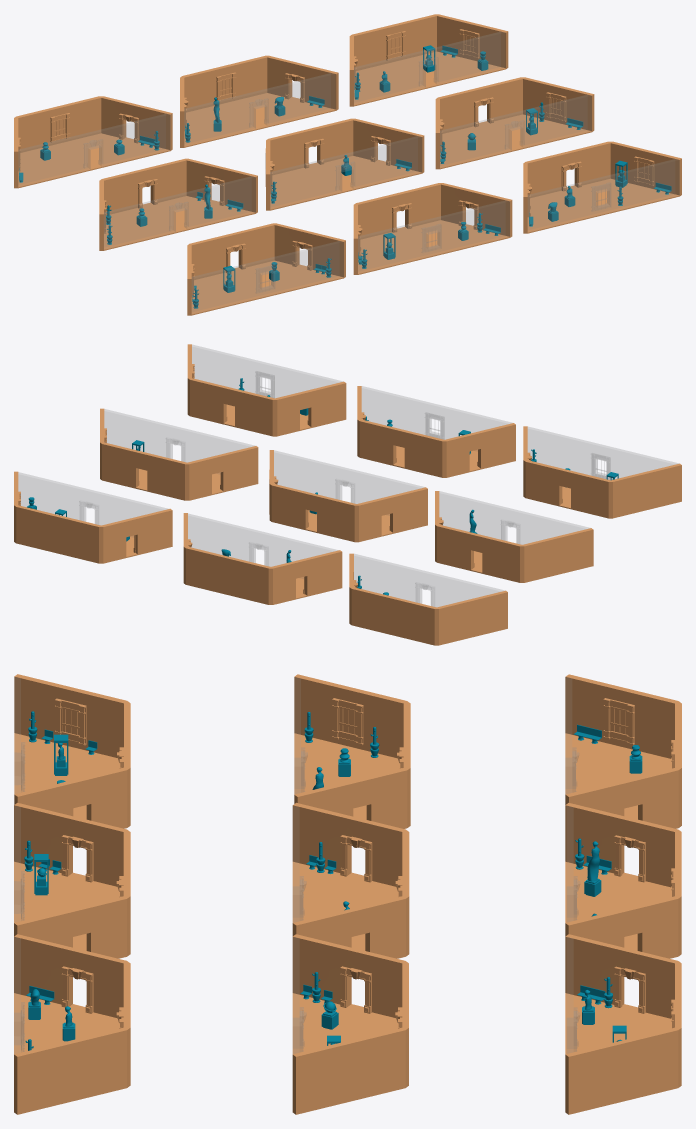
The model's file is map0.fbx.
3 renders of one model, top to bottom at view 1: azimuth 30°, elevation 25°; view 2: azimuth 150°, elevation 25°; view 3: azimuth 270°, elevation 25°, orthographic. The views are drawn at different scales.
Parts seen in each view (by area): view 1: pCube4 (×2), pCube5 (×2), pCube7 (×2), pCube10, pCube16, pCube38, pCube33, pCube50, pCube53, pCube9, pCube29, pCube31 (+12 smaller); view 2: pCube4 (×2), pCube5 (×2), pCube33, pCube38, pCube43, pCube10, pCube21, pCube16, pCube28, pCube31, pCube29, pCube53 (+8 smaller); view 3: pCube4 (×2), pCube21, pCube28, pCube43, pCube16, pCube38, pCube33, pCube10, pCube7 (×2), pCube30, pCube15, pCube39 (+13 smaller).
Part boxes in pixels (x1=…): pCube4 (×2): x1=99, y1=118, x2=424, y2=249; pCube5 (×2): x1=104, y1=136, x2=417, y2=247; pCube7 (×2): x1=99, y1=156, x2=424, y2=250; pCube10: x1=187, y1=223, x2=345, y2=314; pCube16: x1=353, y1=183, x2=512, y2=273; pCube38: x1=180, y1=55, x2=338, y2=146; pCube33: x1=14, y1=96, x2=172, y2=187; pCube50: x1=358, y1=201, x2=505, y2=271; pCube53: x1=528, y1=159, x2=675, y2=230; pCube9: x1=192, y1=241, x2=339, y2=312; pCube29: x1=440, y1=95, x2=587, y2=165; pCube31: x1=18, y1=114, x2=165, y2=184; pCube4 (×2): x1=269, y1=450, x2=593, y2=581; pCube5 (×2): x1=274, y1=450, x2=588, y2=544; pCube33: x1=349, y1=553, x2=507, y2=644; pCube38: x1=183, y1=513, x2=342, y2=603; pCube43: x1=14, y1=471, x2=172, y2=562; pCube10: x1=523, y1=426, x2=681, y2=517; pCube21: x1=187, y1=344, x2=346, y2=435; pCube16: x1=357, y1=386, x2=515, y2=476; pCube28: x1=100, y1=408, x2=258, y2=499; pCube31: x1=354, y1=554, x2=504, y2=606; pCube29: x1=104, y1=409, x2=254, y2=462; pCube53: x1=192, y1=345, x2=342, y2=397; pCube4 (×2): x1=292, y1=674, x2=410, y2=957; pCube21: x1=14, y1=934, x2=130, y2=1113; pCube28: x1=292, y1=934, x2=408, y2=1112; pCube43: x1=565, y1=934, x2=681, y2=1112; pCube16: x1=14, y1=803, x2=130, y2=957; pCube38: x1=565, y1=803, x2=681, y2=957; pCube33: x1=565, y1=674, x2=681, y2=827; pCube10: x1=14, y1=674, x2=130, y2=827; pCube7 (×2): x1=292, y1=733, x2=410, y2=958; pCube30: x1=565, y1=733, x2=681, y2=828; pCube15: x1=14, y1=861, x2=130, y2=958; pCube39: x1=565, y1=861, x2=681, y2=958.
Bounding box in the file's own units: 131 × 9.26 × 96.69.
